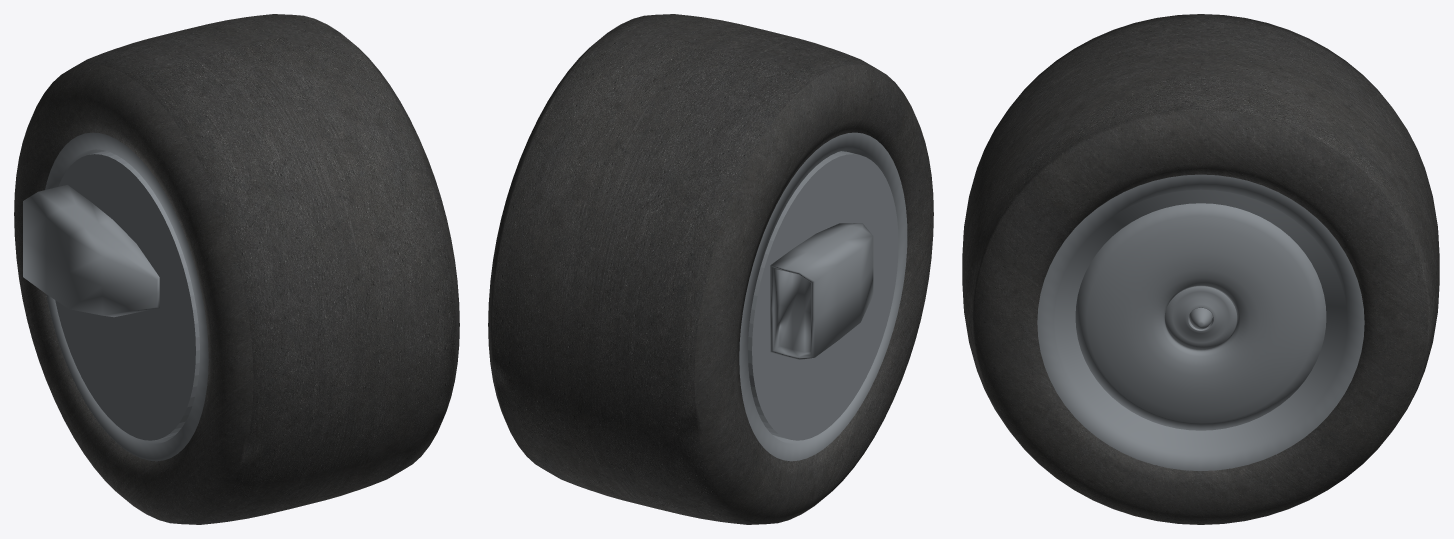
Rendered from f1_2026_2008_wheel_front.glb.
The picture shows the model from 3 angles, left to right: view 1: azimuth 30°, elevation 25°; view 2: azimuth 150°, elevation 25°; view 3: azimuth 270°, elevation 25°; orthographic projection. The views are drawn at different scales.
Visible parts, largest first — view 1: GEO_WHEEL_TIRE, GEO_WHEEL_HUB; view 2: GEO_WHEEL_TIRE, GEO_WHEEL_HUB; view 3: GEO_WHEEL_TIRE, GEO_WHEEL_HUB.
Boxes of the visible parts, bbox=[...] form: GEO_WHEEL_TIRE: bbox=[14, 14, 459, 524]; GEO_WHEEL_HUB: bbox=[23, 132, 208, 461]; GEO_WHEEL_TIRE: bbox=[488, 14, 933, 524]; GEO_WHEEL_HUB: bbox=[739, 132, 907, 461]; GEO_WHEEL_TIRE: bbox=[962, 14, 1439, 524]; GEO_WHEEL_HUB: bbox=[1037, 174, 1364, 470].
Bounding box in the file's own units: 0.4291 × 0.66 × 0.66.
2 materials, 1 textured.
